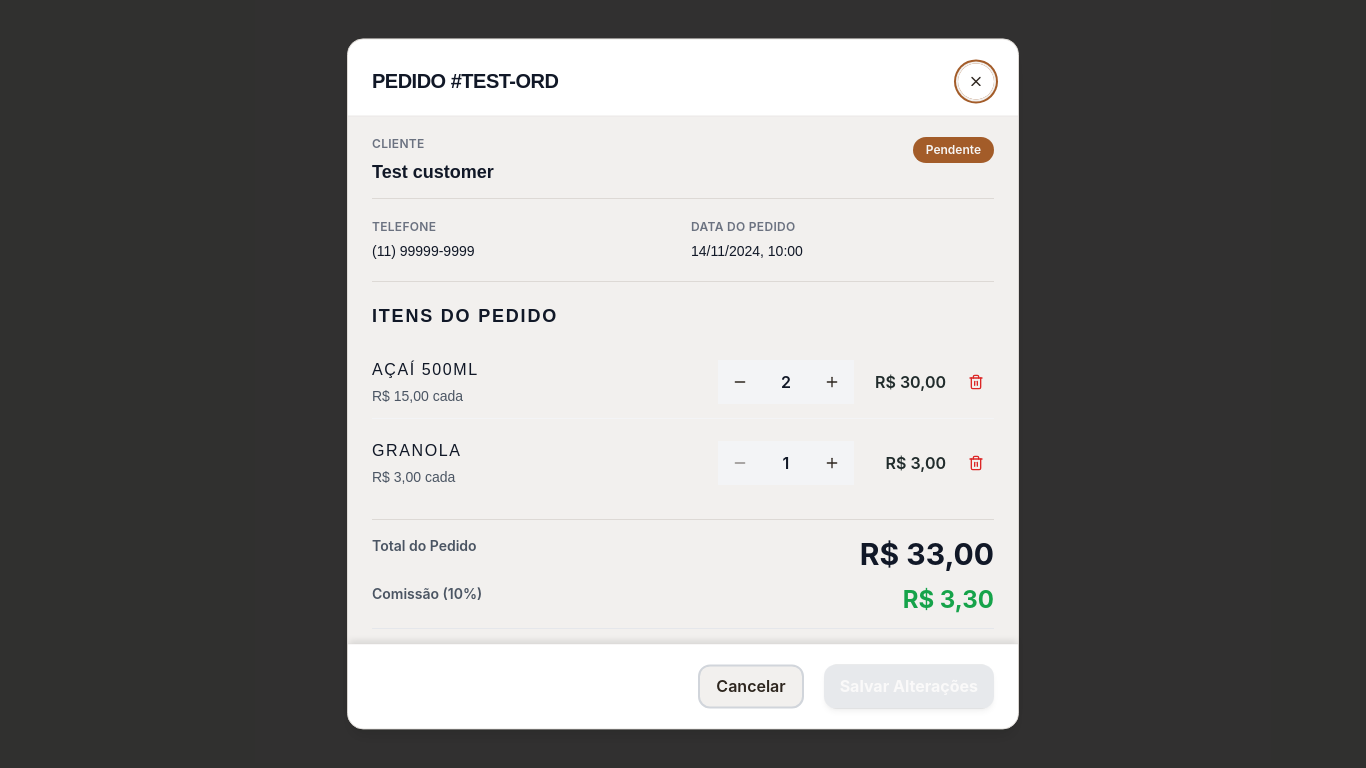
Test case: OrderEditModal - Order Editing Functionality Tests › Requirement 7.5: Modifying Item Quantities › should increase item quantity when plus button is clicked
Check: the heading "Açaí 500ml" is shown, box [372,361,479,378]
Click the button named "Aumentar quantidade" next to "R$ 30,00": (832, 382) [814,364,850,400]
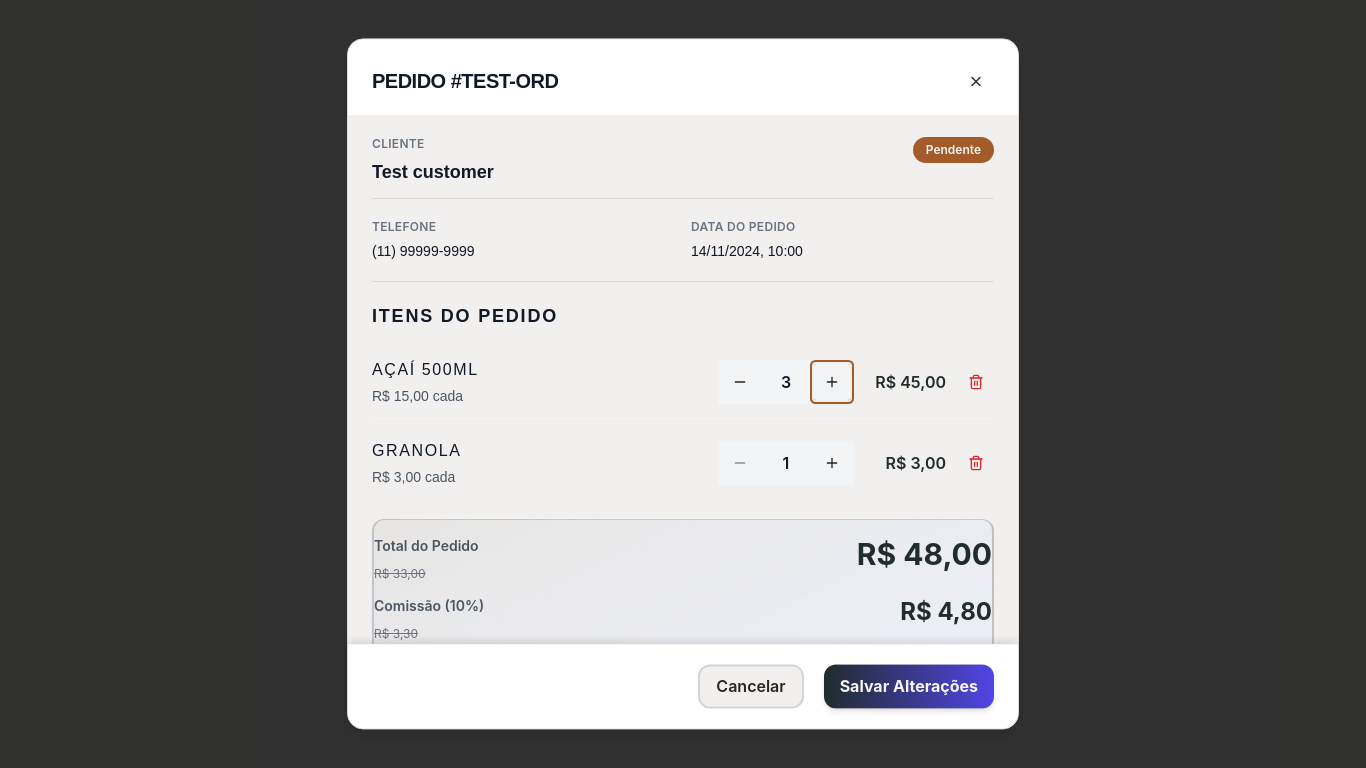
Check: the text "R$ 48,00" is shown, box [857,536,992,572]
Check: the button "Salvar Alterações" is enabled, box [824,665,994,709]
